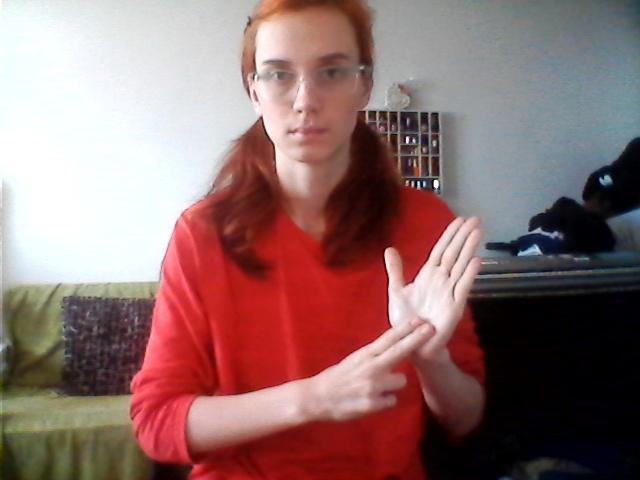n: (359, 211, 490, 425)
